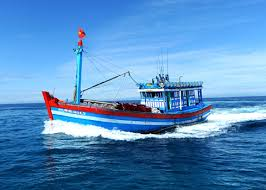tau_dansu: (41, 57, 213, 133)
